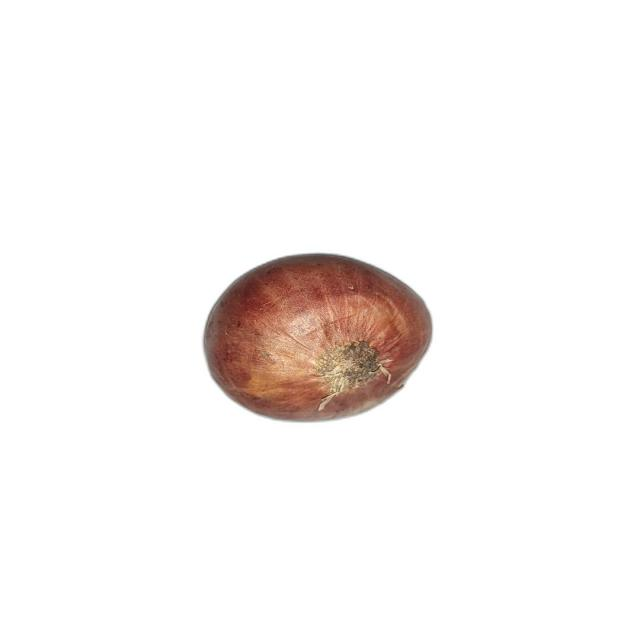onion: (203, 253, 434, 423)
